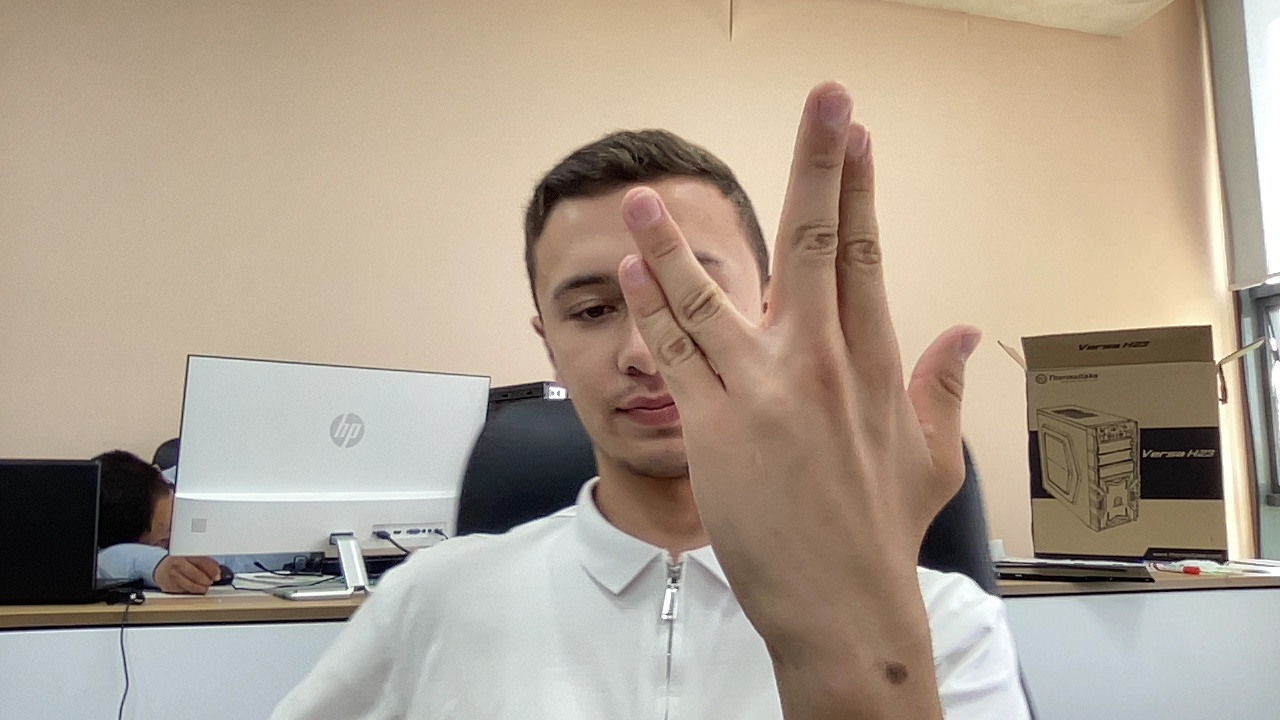livelong: (617, 76, 983, 534)
